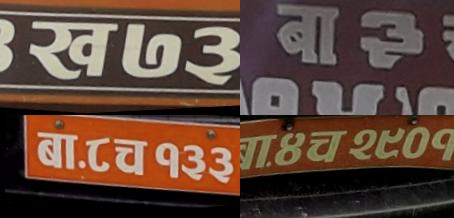0: (266, 0, 345, 70), (398, 124, 431, 164)
1: (146, 140, 182, 188), (426, 126, 454, 169)
2: (342, 127, 378, 168)
3: (178, 19, 240, 97), (203, 146, 237, 190), (176, 143, 209, 188)
4: (0, 11, 24, 84), (271, 131, 307, 169)
5: (297, 74, 388, 115)
7: (115, 19, 190, 94), (240, 69, 305, 115)
8: (79, 133, 115, 177)
9: (433, 12, 454, 83), (372, 127, 405, 169)
ba: (351, 5, 430, 77), (28, 127, 82, 176), (240, 127, 280, 176)
cha: (303, 126, 347, 170), (107, 136, 150, 181)
kha: (23, 14, 124, 88)
lu: (382, 83, 454, 115)
